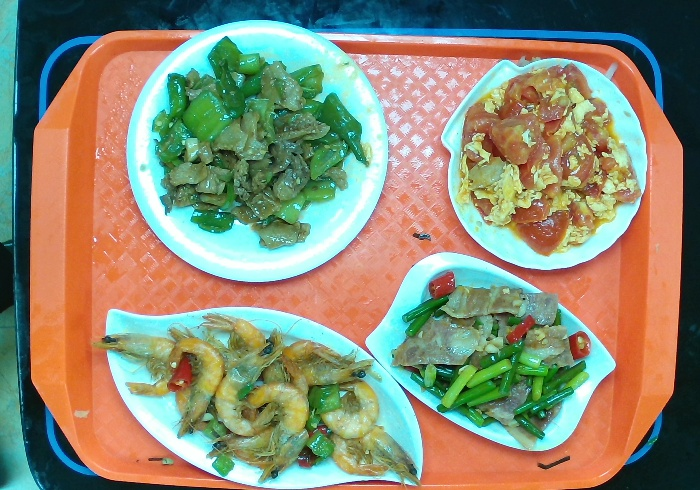RJxy-Bei_Ke_Wan: (434, 51, 652, 277)
RJxy-Jian_Jiao_Fang_Die: (361, 249, 621, 454)
RJxy-Jian_Jiao_Pan: (96, 297, 428, 488)
RJxy-Yuan_Pan: (118, 16, 397, 291)
